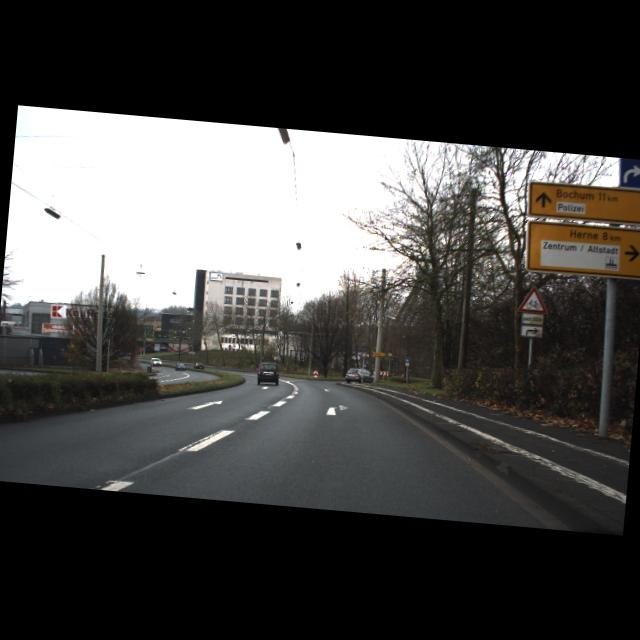danger: (516, 284, 549, 314)
